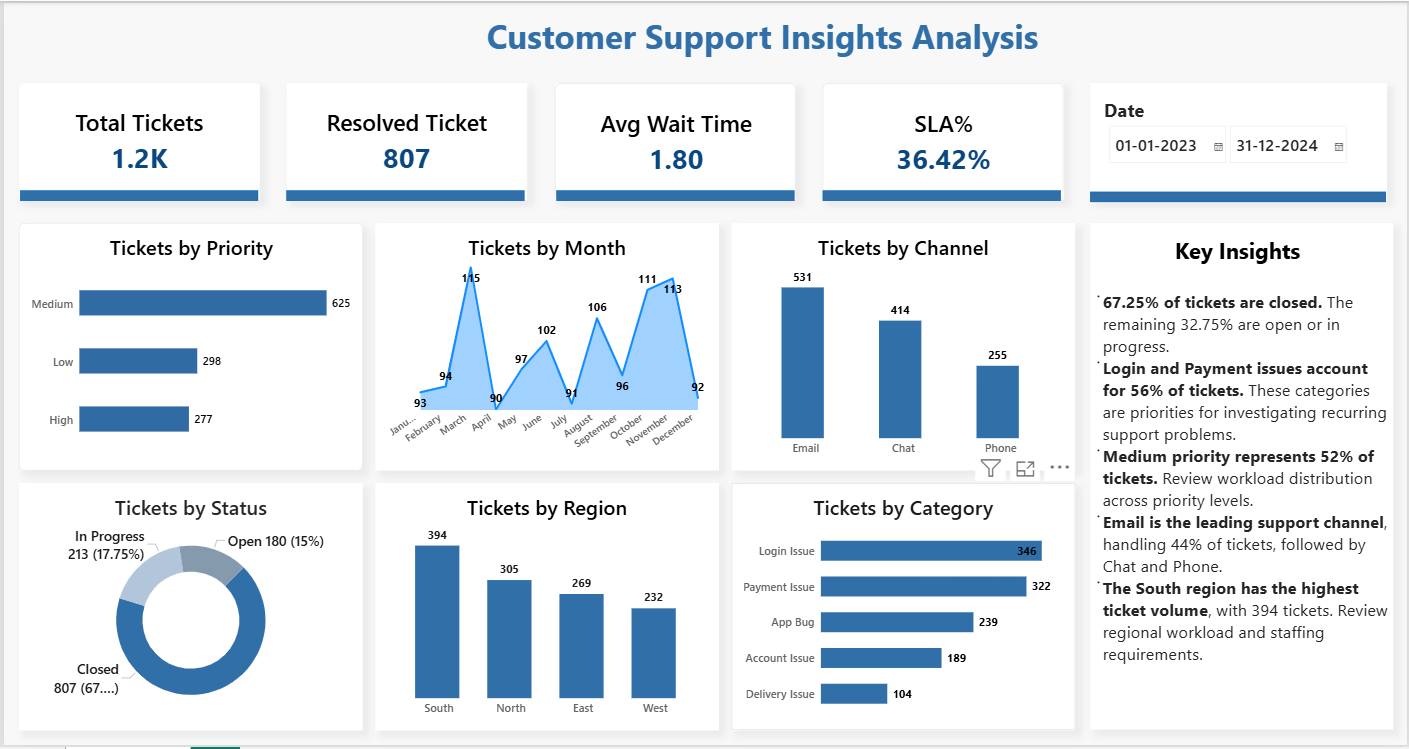

Layout of this report page (visuals, bound fields, positions):
{"tool":"powerbi","page":{"name":"DashBoard","canvas":[2040,1080],"ordinal":0},"visuals":[{"type":"cardVisual","fields":{"Data":["CountNonNull(Tickets.TicketID)"]},"box":[22.2,116.7,350,170.4],"z":0,"group":"g1"},{"type":"cardVisual","fields":{"Data":["Tickets.Resolved icket"]},"box":[411.6,117,350,170],"z":1000,"group":"g2"},{"type":"cardVisual","fields":{"Data":["Tickets.Avg wait time"]},"box":[800.9,117,350,170],"z":2000,"group":"g3"},{"type":"cardVisual","fields":{"Data":["Tickets.SLA%"]},"box":[1190.3,116.7,350,170.4],"z":3000,"group":"g4"},{"type":"slicer","title":"Date","fields":{"Values":["Tickets.CreatedDate"]},"box":[1579.6,116.7,431.5,170.4],"z":4000,"group":"g5"},{"type":"textbox","box":[24.1,14.8,1987,88.9],"z":5000},{"type":"barChart","title":"Tickets by Priority","fields":{"Category":["Tickets.Priority"],"Y":["CountNonNull(Tickets.TicketID)"]},"box":[22.2,320.4,500,360],"z":6000},{"type":"areaChart","title":"Tickets by Month","fields":{"Category":["Tickets.CreatedDate.Variation.Date Hierarchy.Month"],"Y":["CountNonNull(Tickets.TicketID)"]},"box":[539.8,320.4,500,360],"z":7000},{"type":"columnChart","title":"Tickets by Channel","fields":{"Category":["Tickets.Channel"],"Y":["CountNonNull(Tickets.TicketID)"]},"box":[1057.4,320.4,500,360],"z":8000},{"type":"donutChart","title":"Tickets by Status","fields":{"Category":["Tickets.Status"],"Y":["CountNonNull(Tickets.TicketID)"]},"box":[22.2,698.1,500,360],"z":9000},{"type":"columnChart","title":"Tickets by Region","fields":{"Category":["Tickets.Region"],"Y":["CountNonNull(Tickets.TicketID)"]},"box":[539.8,698.1,500,360],"z":10000},{"type":"barChart","title":"Tickets by Category","fields":{"Category":["Tickets.Category"],"Y":["CountNonNull(Tickets.TicketID)"]},"box":[1057.4,698.1,500,360],"z":11000},{"type":"textbox","box":[1579.6,320.4,440.7,737],"z":12000},{"type":"shape","box":[23.6,272.9,346,15],"z":13000,"group":"g1"},{"type":"shape","box":[411.1,272.8,346,15],"z":14000,"group":"g2"},{"type":"shape","box":[801.8,272.8,346,15],"z":15000,"group":"g3"},{"type":"shape","box":[1190.8,272.9,346,15],"z":16000,"group":"g4"},{"type":"shape","box":[1580.3,274.7,430,15],"z":17000,"group":"g5"},{"type":"group","id":"g1","title":"Group 1","box":[22.2,116.7,350,171.2],"z":17001},{"type":"group","id":"g2","title":"Group 2","box":[411.1,117,350.5,170.8],"z":17002},{"type":"group","id":"g3","title":"Group 3","box":[800.9,117,350,170.8],"z":17003},{"type":"group","id":"g4","title":"Group 4","box":[1190.3,116.7,350,171.2],"z":17004},{"type":"group","id":"g5","title":"Group 5","box":[1579.6,116.7,431.5,173],"z":17005}]}

Visuals, with their boxes in screenshot pixels (x1, y1, x2, y2), scaled from the page's 2040x1080 canvas onto the 1409x749 screenshot:
cardVisual - CountNonNull(Tickets.TicketID): x1=15 y1=81 x2=257 y2=199
cardVisual - Tickets.Resolved icket: x1=284 y1=81 x2=526 y2=199
cardVisual - Tickets.Avg wait time: x1=553 y1=81 x2=795 y2=199
cardVisual - Tickets.SLA%: x1=822 y1=81 x2=1064 y2=199
"Date" slicer: x1=1091 y1=81 x2=1389 y2=199
textbox: x1=17 y1=10 x2=1389 y2=72
"Tickets by Priority" barChart: x1=15 y1=222 x2=361 y2=472
"Tickets by Month" areaChart: x1=373 y1=222 x2=718 y2=472
"Tickets by Channel" columnChart: x1=730 y1=222 x2=1076 y2=472
"Tickets by Status" donutChart: x1=15 y1=484 x2=361 y2=734
"Tickets by Region" columnChart: x1=373 y1=484 x2=718 y2=734
"Tickets by Category" barChart: x1=730 y1=484 x2=1076 y2=734
textbox: x1=1091 y1=222 x2=1395 y2=733
shape: x1=16 y1=189 x2=255 y2=200
shape: x1=284 y1=189 x2=523 y2=200
shape: x1=554 y1=189 x2=793 y2=200
shape: x1=822 y1=189 x2=1061 y2=200
shape: x1=1091 y1=191 x2=1388 y2=201
"Group 1" group: x1=15 y1=81 x2=257 y2=200
"Group 2" group: x1=284 y1=81 x2=526 y2=200
"Group 3" group: x1=553 y1=81 x2=795 y2=200
"Group 4" group: x1=822 y1=81 x2=1064 y2=200
"Group 5" group: x1=1091 y1=81 x2=1389 y2=201
